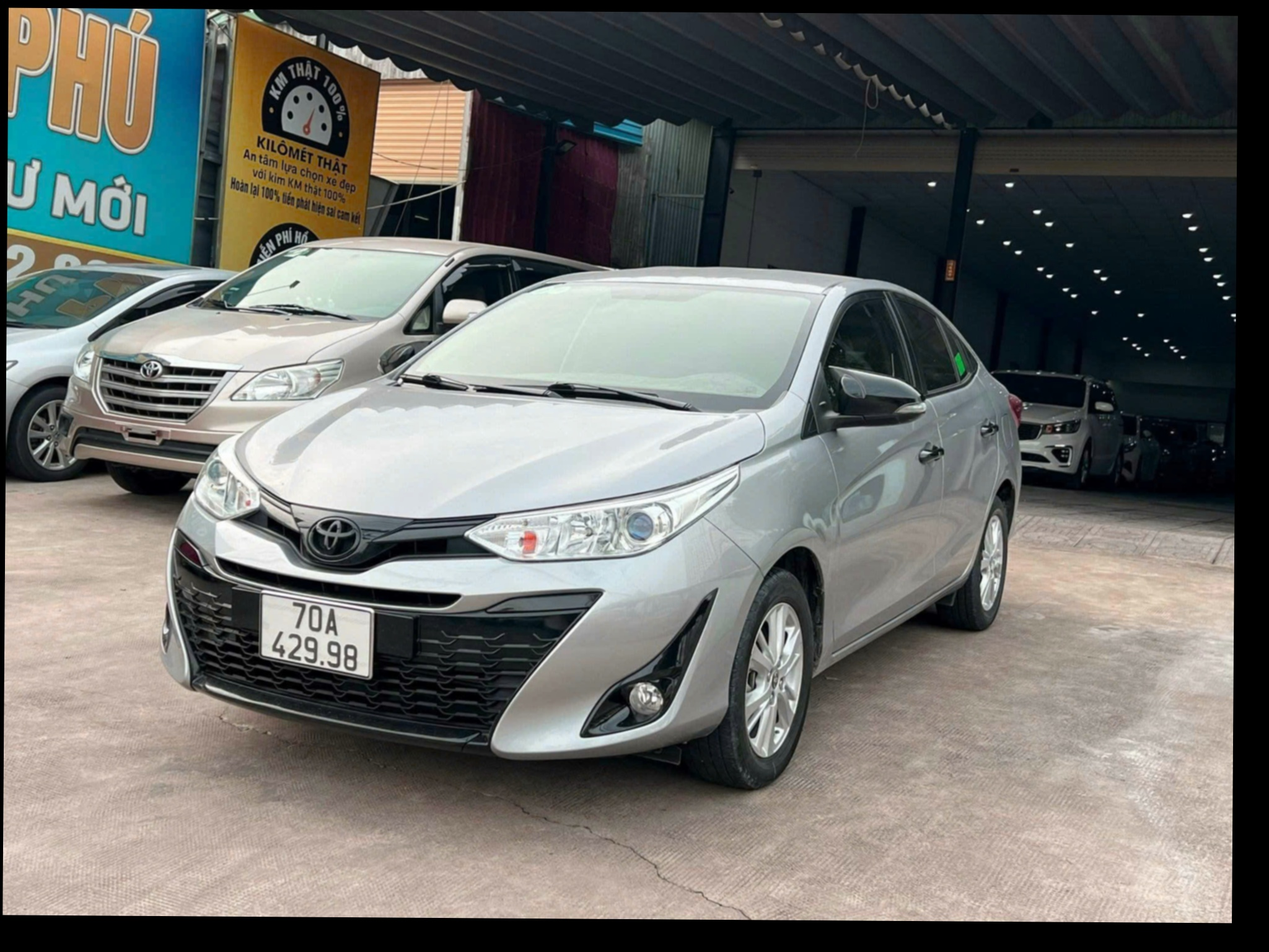Bien-so: (252, 593, 382, 677)
